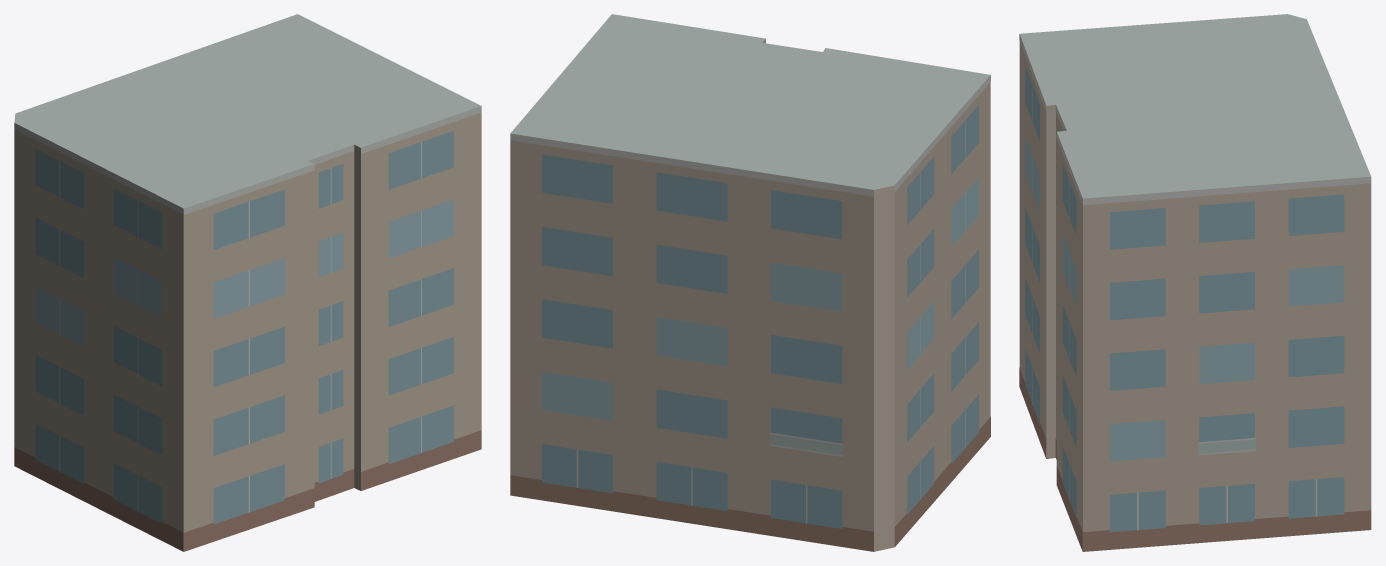
Rendered from survey-upis-32705118.glb.
3 views of the same model, side by side, from view 1: azimuth 30°, elevation 25°; view 2: azimuth 150°, elevation 25°; view 3: azimuth 270°, elevation 25° (orthographic). The views are drawn at different scales.
Parts seen in each view (by area): view 1: survey-upis-32705118.tmp; view 2: survey-upis-32705118.tmp; view 3: survey-upis-32705118.tmp.
Boxes of the visible parts, x1,y1,x2,y2 form: survey-upis-32705118.tmp: [14, 14, 481, 551]; survey-upis-32705118.tmp: [510, 14, 990, 551]; survey-upis-32705118.tmp: [1019, 14, 1371, 551].
Size of the model in its own units: 14.7 by 13.1 by 11.84.
